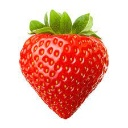strawberry: (17, 21, 109, 119)
